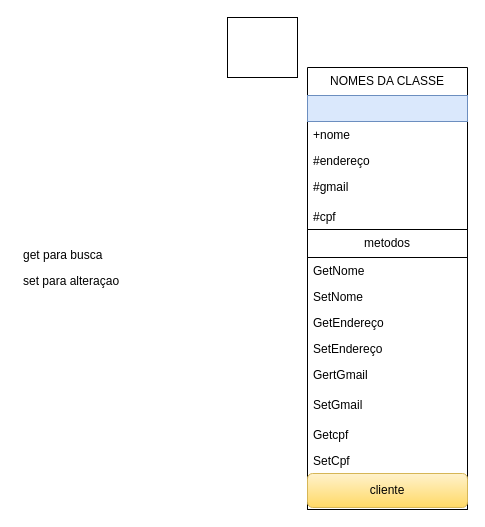
The diagram is 485 pixels wide and 527 high, and some of its shapes have lost their labels. Here are the shapes that lost their labels. From the top down, the centre of each, then its label:
At [262,47]: "-privado +publico #protegido".
At [387,108]: "ATRIBUTOS".
